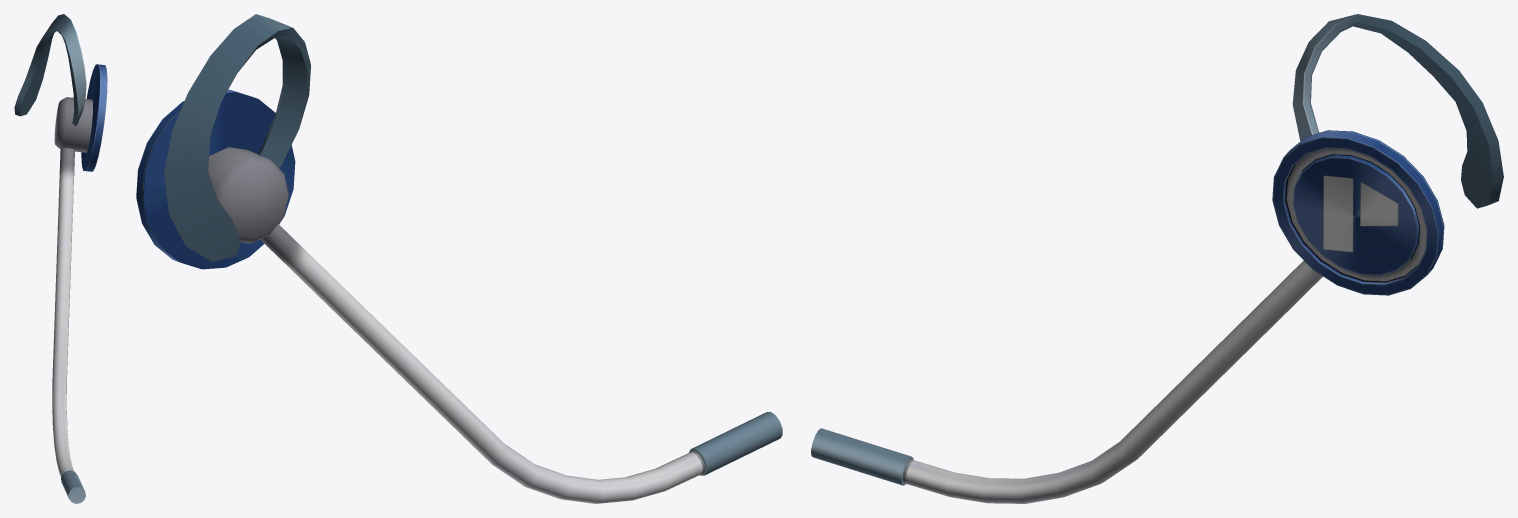
File: EntrainingIntercomKeito.fbx
The picture shows the model from 3 angles, left to right: view 1: azimuth 30°, elevation 25°; view 2: azimuth 150°, elevation 25°; view 3: azimuth 270°, elevation 25°; orthographic projection. The views are drawn at different scales.
Visible parts, largest first — view 1: EntrainingIntercomKeito; view 2: EntrainingIntercomKeito; view 3: EntrainingIntercomKeito.
Boxes of the visible parts, bbox=[...] form: EntrainingIntercomKeito: bbox=[14, 14, 107, 503]; EntrainingIntercomKeito: bbox=[136, 14, 782, 503]; EntrainingIntercomKeito: bbox=[811, 14, 1503, 503].
Size of the model in its own units: 0.0488 by 0.0768 by 0.0824.
Materials: 1 (1 with a texture image).
